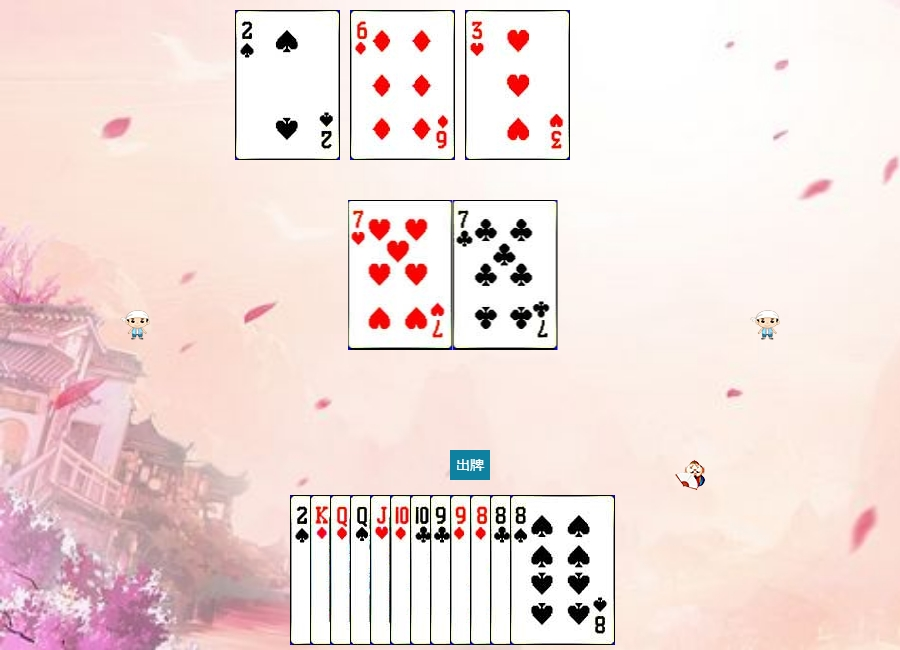10~1: (390, 495, 495, 645)
10~2: (410, 495, 515, 645)
11~3: (370, 495, 475, 645)
12~1: (330, 495, 435, 645)
12~4: (350, 495, 455, 645)
13~1: (310, 495, 415, 645)
15~4: (235, 10, 340, 160), (290, 495, 395, 645)
3~3: (465, 10, 570, 160)
6~1: (350, 10, 455, 160)
7~2: (453, 200, 558, 350)
7~3: (348, 200, 453, 350)
8~1: (470, 495, 575, 645)
8~2: (490, 495, 595, 645)
8~4: (510, 495, 615, 645)
9~1: (450, 495, 555, 645)
9~2: (430, 495, 535, 645)
